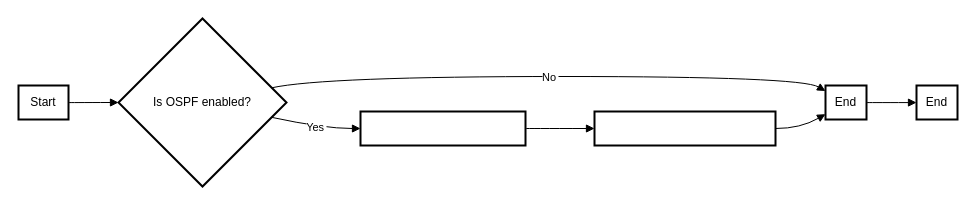
This 975x204 diagram has some shape labels left out. Here are the shapes that lost their labels. From the top down, the box of each, then its label:
(359, 110, 526, 146): Set OSPF parameters
(593, 110, 776, 146): Configure OSPF routing
